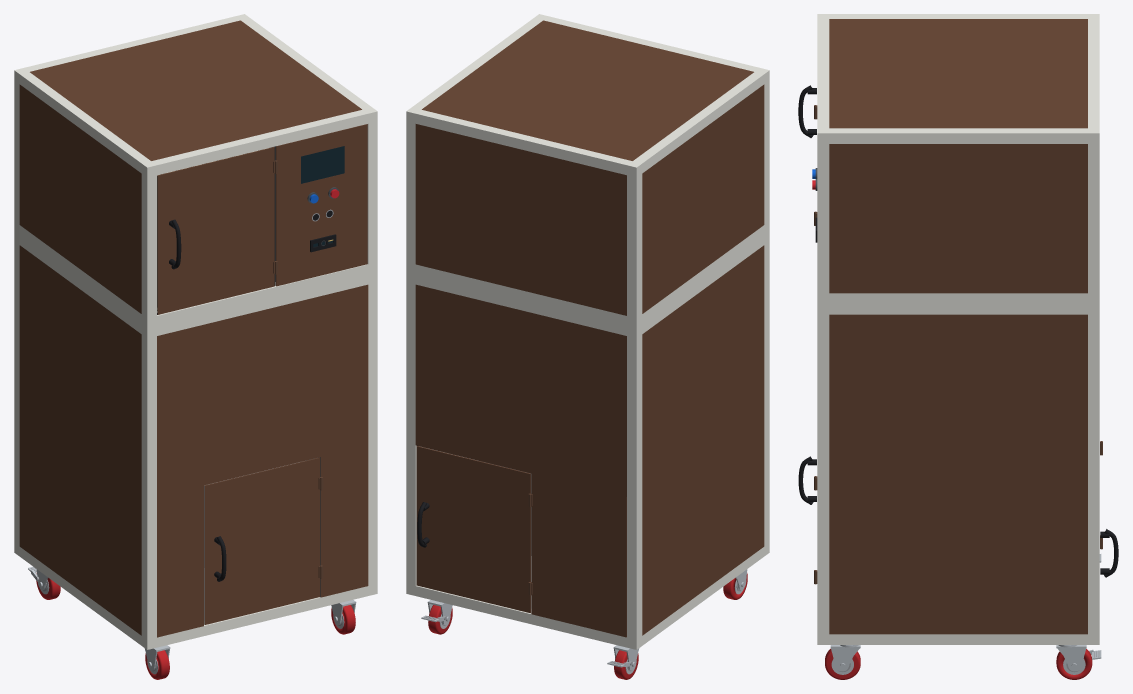
Rendered from smart-parcel-dropbox.glb.
The picture shows the model from 3 angles, left to right: view 1: azimuth 30°, elevation 25°; view 2: azimuth 150°, elevation 25°; view 3: azimuth 270°, elevation 25°; orthographic projection. The views are drawn at different scales.
Visible parts, largest first — view 1: Left side panel (×2), Bottom front upper panel, Inset top panel, Parcel entry door, Front pickup door, 25 mm corner post (×6), Horizontal frame rail (×5), Controls panel, Depth frame rail (×5), Bottom front right panel, Bottom front left panel, TFT LCD glass; view 2: Left side panel (×2), Rear fixed upper panel, Upper rear panel, Inset top panel, Rear drop-off retrieval door, 25 mm corner post (×6), Rear fixed right panel, Horizontal frame rail (×5), Depth frame rail (×5); view 3: Right side panel (×2), Inset top panel, Depth frame rail (×5), 25 mm corner post (×4), Horizontal frame rail (×2).
Part boxes in pixels (bbox=[...]): Left side panel (×2): bbox=[19, 84, 141, 635]; Bottom front upper panel: bbox=[157, 284, 368, 496]; Inset top panel: bbox=[30, 20, 361, 160]; Parcel entry door: bbox=[157, 147, 274, 314]; Front pickup door: bbox=[204, 457, 319, 624]; 25 mm corner post (×6): bbox=[14, 68, 377, 649]; Horizontal frame rail (×5): bbox=[24, 16, 368, 647]; Controls panel: bbox=[275, 124, 367, 286]; Depth frame rail (×5): bbox=[19, 18, 371, 645]; Bottom front right panel: bbox=[320, 445, 368, 597]; Bottom front left panel: bbox=[157, 485, 203, 637]; TFT LCD glass: bbox=[301, 146, 344, 183]; Left side panel (×2): bbox=[642, 84, 764, 635]; Rear fixed upper panel: bbox=[415, 284, 626, 496]; Upper rear panel: bbox=[415, 124, 626, 315]; Inset top panel: bbox=[422, 20, 753, 160]; Rear drop-off retrieval door: bbox=[416, 446, 530, 612]; 25 mm corner post (×6): bbox=[406, 68, 769, 649]; Rear fixed right panel: bbox=[531, 473, 626, 637]; Horizontal frame rail (×5): bbox=[415, 16, 759, 647]; Depth frame rail (×5): bbox=[412, 18, 764, 645]; Right side panel (×2): bbox=[829, 144, 1087, 634]; Inset top panel: bbox=[829, 19, 1087, 128]; Depth frame rail (×5): bbox=[829, 14, 1087, 644]; 25 mm corner post (×4): bbox=[817, 128, 1099, 644]; Horizontal frame rail (×2): bbox=[817, 19, 1099, 128].
Size of the model in its own units: 0.6 by 1.31 by 0.6804.
